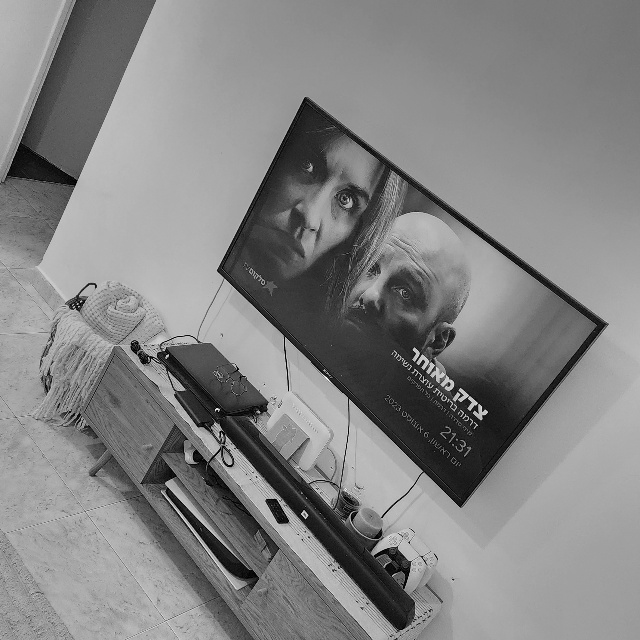glasses: (213, 359, 251, 400)
